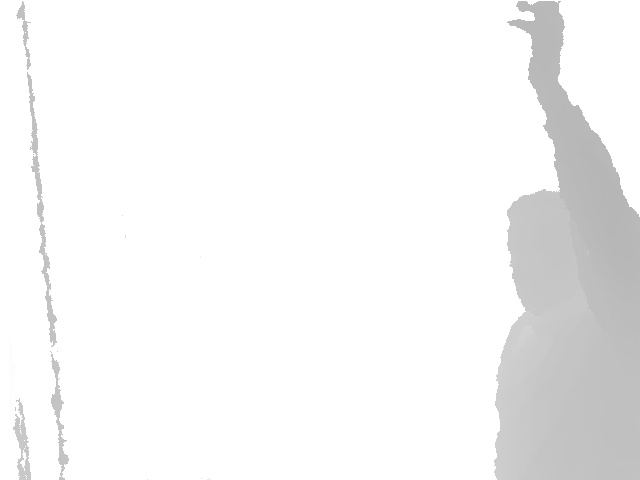hand: (507, 1, 566, 78)
head: (506, 190, 603, 317)
person: (494, 1, 640, 480)
